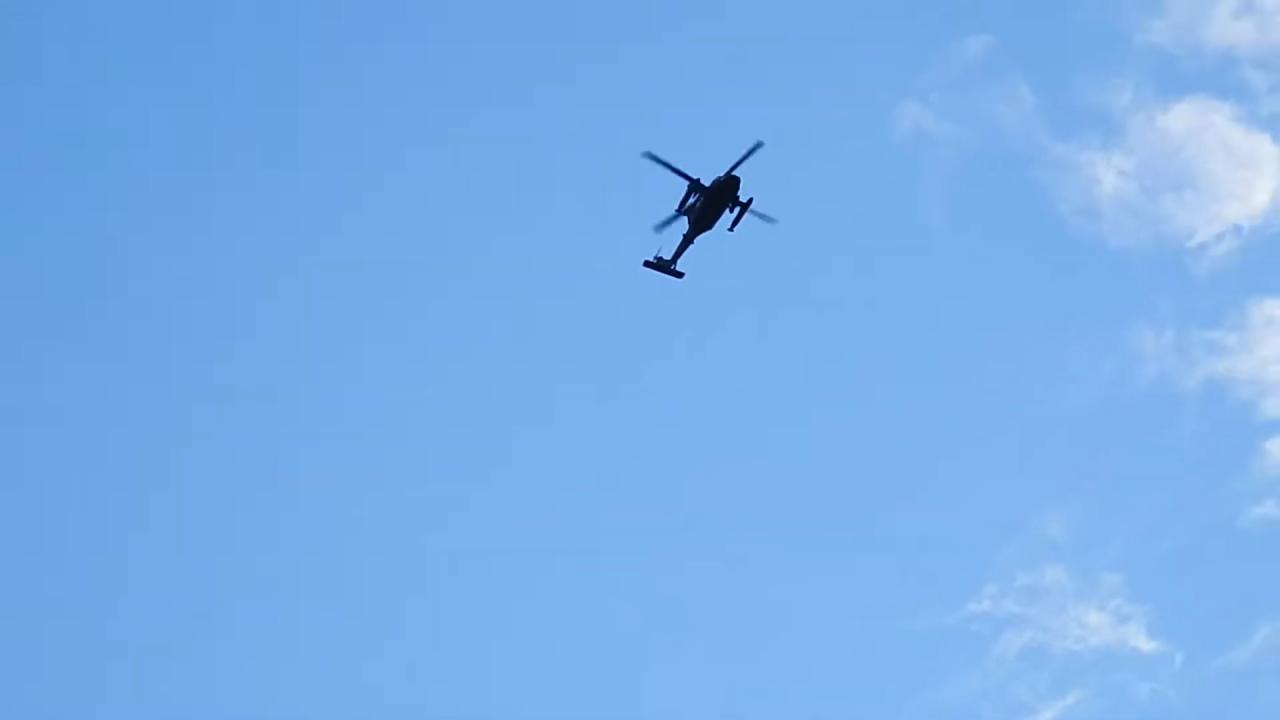Helicopter: (595, 123, 823, 296)
